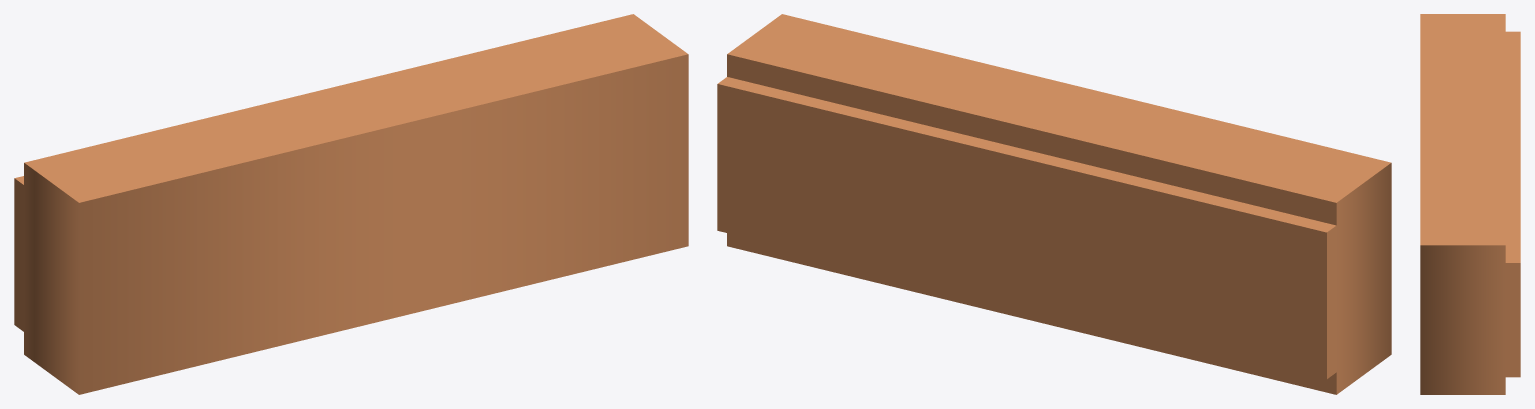
The picture shows the model from 3 angles, left to right: view 1: azimuth 30°, elevation 25°; view 2: azimuth 150°, elevation 25°; view 3: azimuth 270°, elevation 25°; orthographic projection. The views are drawn at different scales.
Parts seen in each view (by area): view 1: kitchenBar.002_ID9.000; view 2: kitchenBar.002_ID9.000; view 3: kitchenBar.002_ID9.000.
Boxes of the visible parts, x1,y1,x2,y2 form: kitchenBar.002_ID9.000: [14, 14, 688, 394]; kitchenBar.002_ID9.000: [717, 14, 1391, 394]; kitchenBar.002_ID9.000: [1420, 14, 1520, 394].
Size of the model in its own units: 3.77 by 1.13 by 0.6921.
